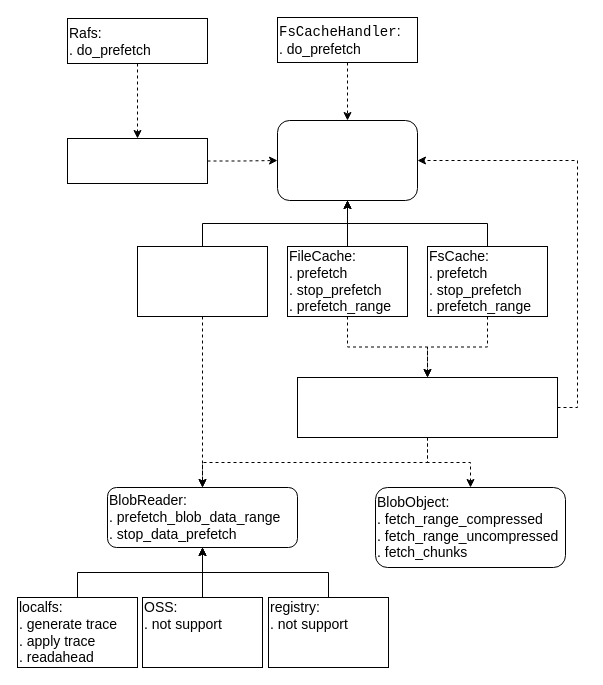
Image size: 603x685. Some labels were removed from this diagram. Each missing label, with the centre of its shape:
"AsyncWorkMgr: . handle_blob_prefetch_request . handle_fs_prefetch_request" belongs at (x=427, y=407).
"BlobCache: . prefetch . stop_prefetch . prefetch_range" belongs at (x=347, y=160).
"BlobDevice : . prefetch" belongs at (x=137, y=161).
"DummyCache: . prefetch . stop_prefetch ." belongs at (x=202, y=281).
